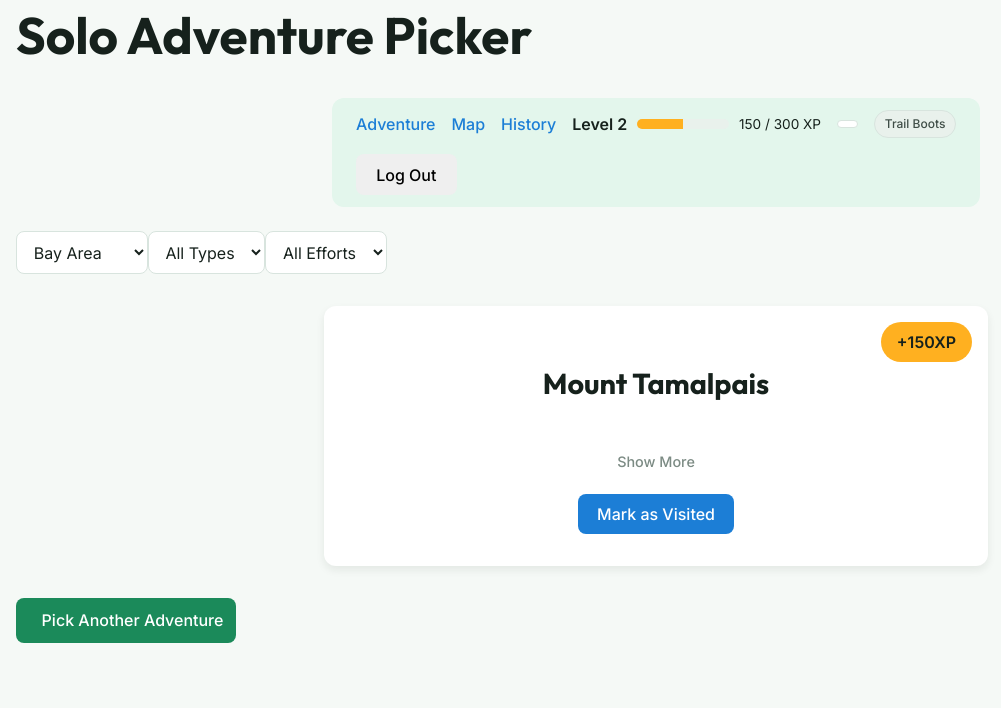
Test: AdventurePage › shows an already-visited notice when the backend reports a repeat visit
This screenshot has width=1001, height=708.
Expected: the heading "Mount Tamalpais" is shown, x1=543 y1=365 x2=769 y2=401
Click the button "Mark as Visited" at (656, 514), box x1=578 y1=494 x2=734 y2=534
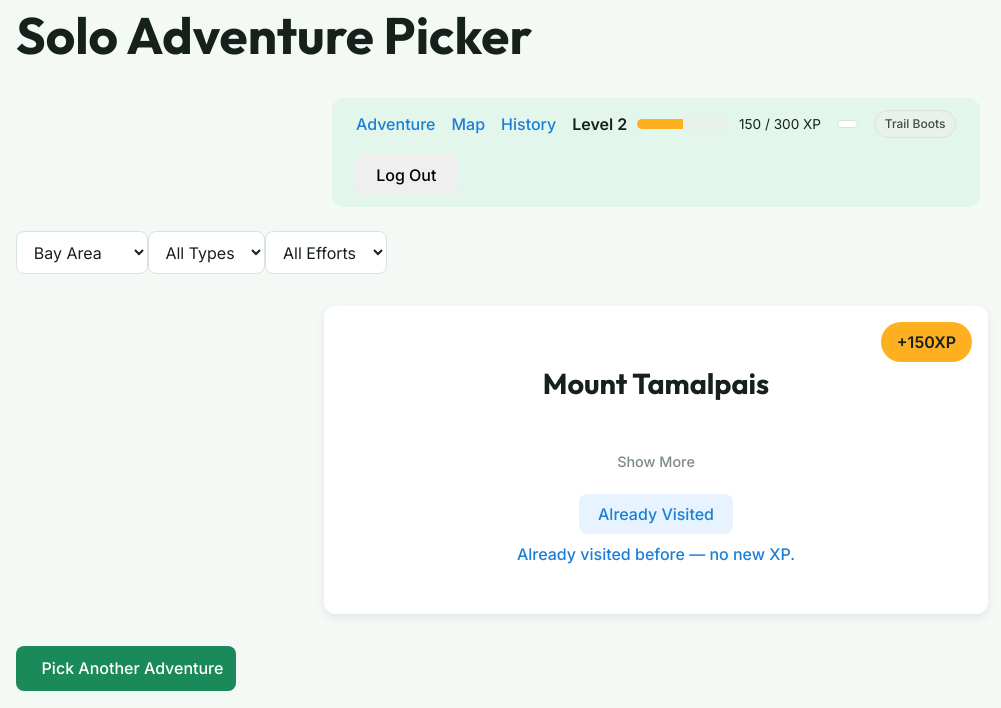
Expected: the text "Already visited before — no new XP." is shown, x1=517 y1=544 x2=795 y2=564
